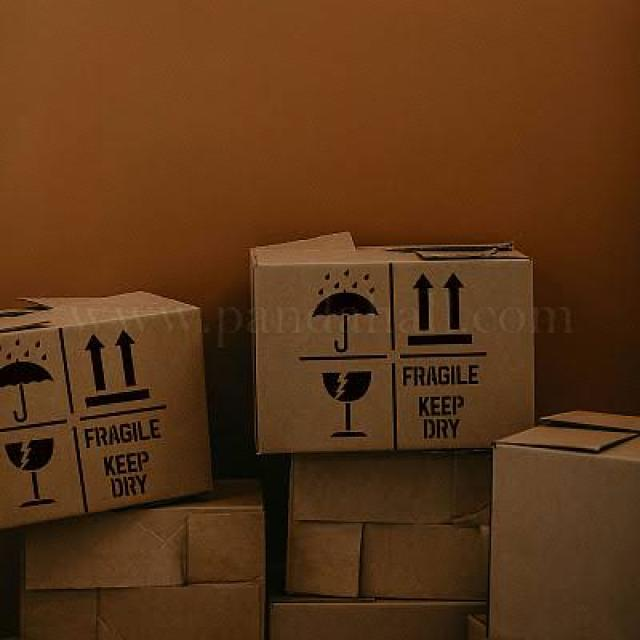fragile_label: (301, 357, 395, 454), (4, 426, 86, 525)
keep_dry_label: (285, 260, 395, 358), (0, 335, 70, 432), (85, 441, 175, 514), (399, 385, 491, 452)
this_side_up_label: (66, 313, 172, 454), (399, 264, 481, 356)
